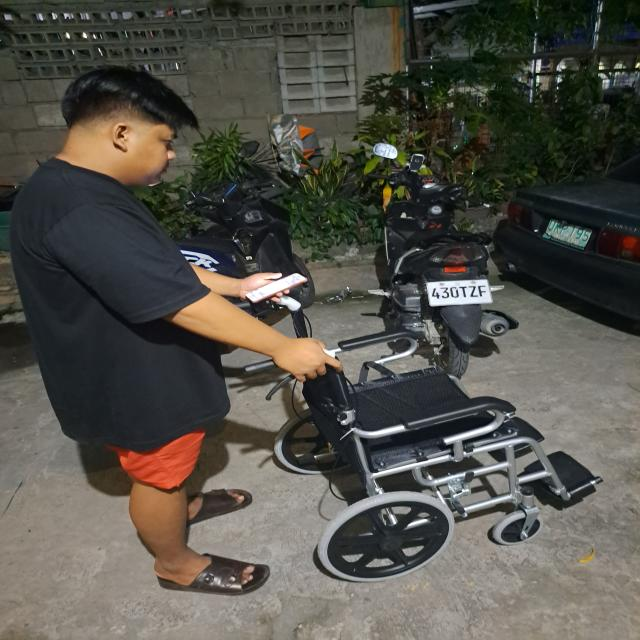wheelchairs: (254, 296, 610, 588)
